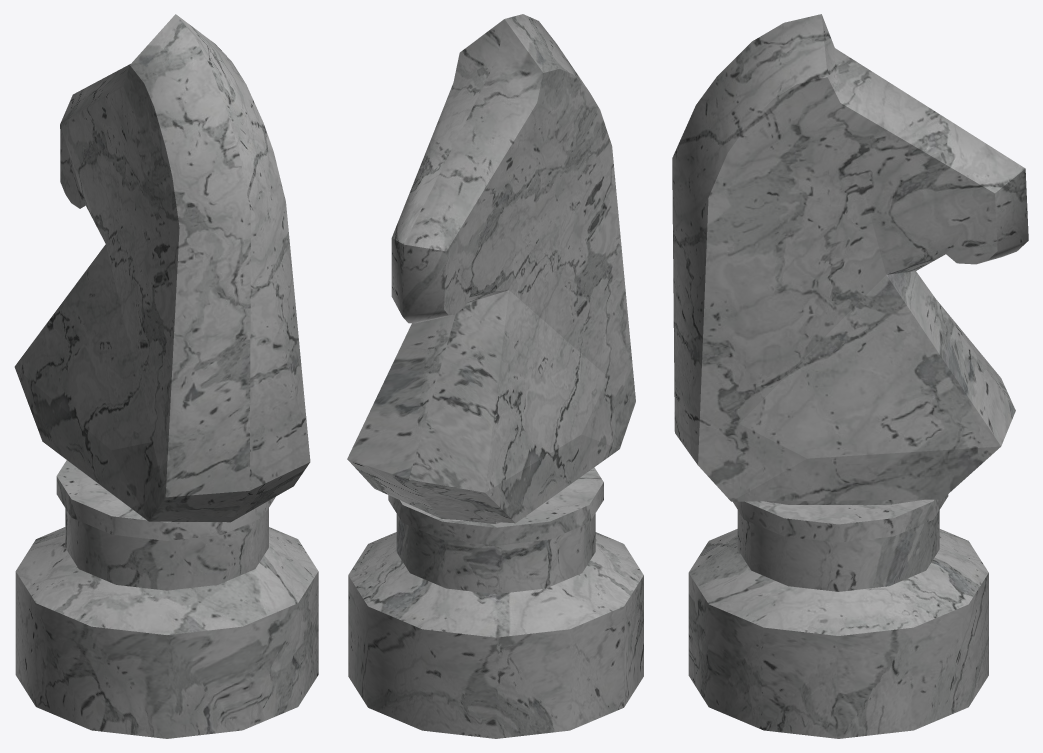
The model's file is knight.glb.
3 views of the same model, side by side, from view 1: azimuth 30°, elevation 25°; view 2: azimuth 150°, elevation 25°; view 3: azimuth 270°, elevation 25° (orthographic). The views are drawn at different scales.
Parts seen in each view (by area): view 1: Knight; view 2: Knight; view 3: Knight.
Boxes of the visible parts, box(x1,y1,x2,y2) form: Knight: box(14, 14, 318, 738); Knight: box(347, 14, 643, 738); Knight: box(672, 14, 1028, 738).
Size of the model in its own units: 1.1 by 2.67 by 1.31.
1 material, 1 textured.
